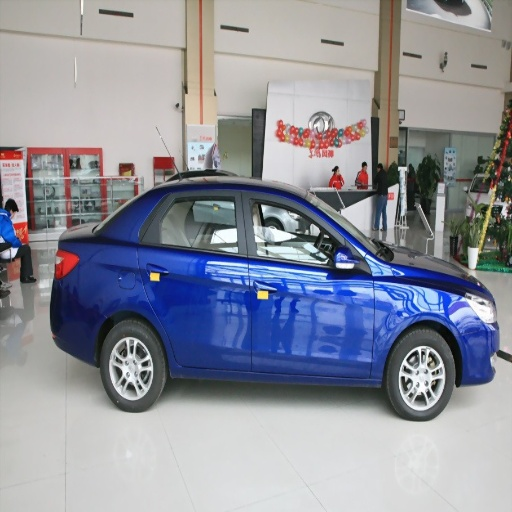back_right_door: (142, 188, 250, 367)
front_right_door: (245, 188, 374, 375)
